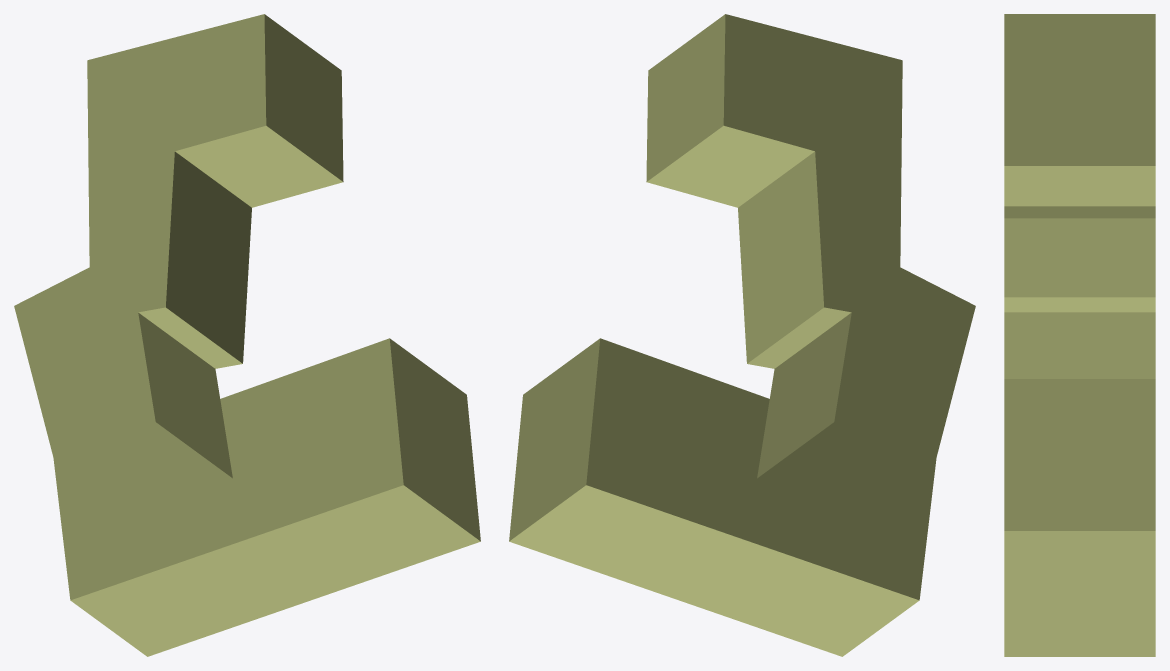
3 renders of one model, left to right at view 1: azimuth 30°, elevation 25°; view 2: azimuth 150°, elevation 25°; view 3: azimuth 270°, elevation 25°, orthographic. The views are drawn at different scales.
Parts seen in each view (by area): view 1: 0_1_0_0_1_2_3_0_2_0; view 2: 0_1_0_0_1_2_3_0_2_0; view 3: 0_1_0_0_1_2_3_0_2_0.
Boxes of the visible parts, x1,y1,x2,y2 form: 0_1_0_0_1_2_3_0_2_0: (14, 14, 480, 656); 0_1_0_0_1_2_3_0_2_0: (509, 14, 975, 656); 0_1_0_0_1_2_3_0_2_0: (1004, 14, 1155, 656).
Bounding box in the file's own units: 17.48 × 23.11 × 6.
